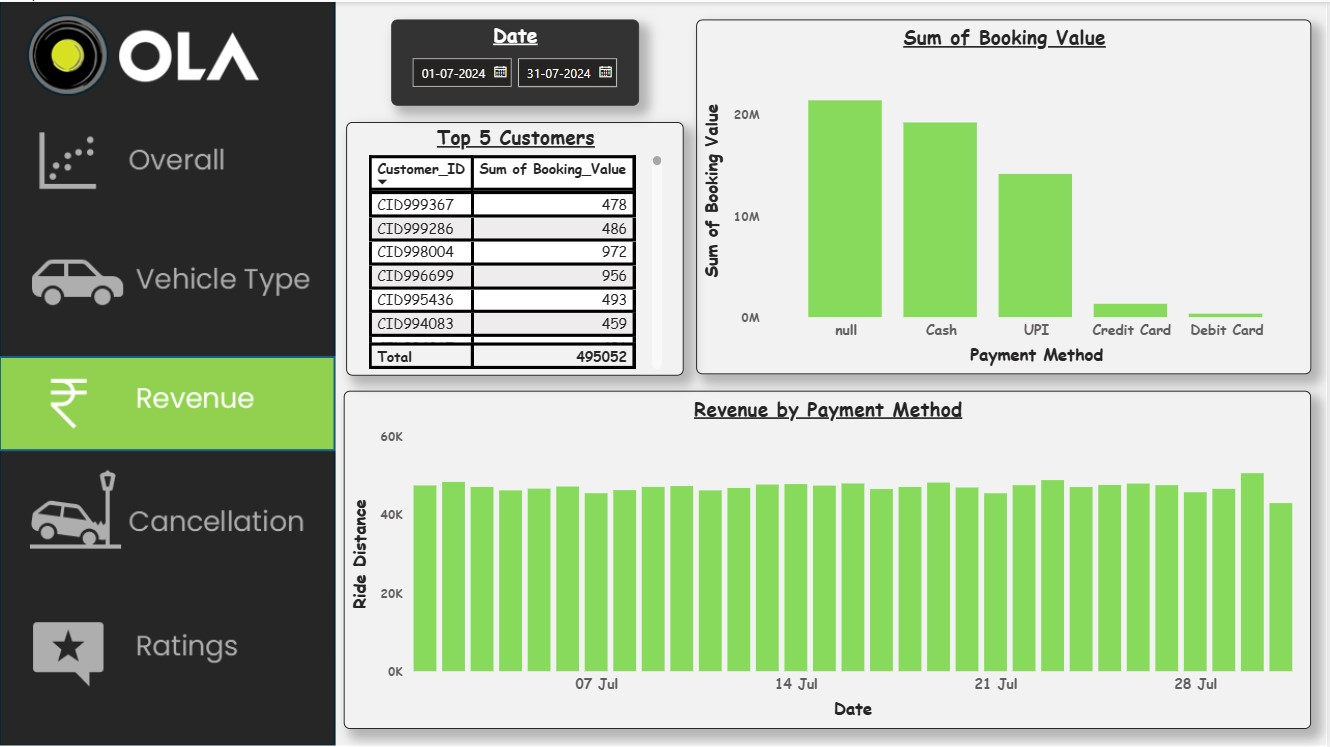

The page's visual inventory and layout, read from the dashboard file:
{"tool":"powerbi","page":{"name":"Revenue","canvas":[1280,720],"ordinal":2},"visuals":[{"type":"actionButton","box":[8.4,115.8,323.3,90.5],"z":0},{"type":"actionButton","box":[0,228,323.3,90.5],"z":1000},{"type":"actionButton","box":[0,115.8,323.3,90.5],"z":2000},{"type":"actionButton","box":[0,445.2,323.3,90.5],"z":3000},{"type":"actionButton","box":[0,228,323.3,90.5],"z":4000},{"type":"actionButton","box":[0,446.4,323.3,90.5],"z":5000},{"type":"actionButton","box":[0,583.9,323.3,90.5],"z":6000},{"type":"columnChart","title":"Revenue by Payment Method","fields":{"Y":["Sum(July.Ride_Distance)"],"Category":["July.Date"]},"box":[331.8,375.1,933.5,326.1],"z":7000},{"type":"columnChart","title":"Sum of Booking Value","fields":{"Y":["Sum(July.Booking_Value)"],"Category":["July.Payment_Method"]},"box":[672,16.9,593.6,342.6],"z":8000},{"type":"slicer","title":"Date","fields":{"Values":["July.Date"]},"box":[377.6,16.9,238.9,83.2],"z":9000},{"type":"tableEx","title":"Top 5 Customers","fields":{"Values":["July.Customer_ID","Sum(July.Booking_Value)"]},"box":[334.2,115.8,325.7,244.9],"z":10000}]}

Visuals, with their boxes in screenshot pixels (x1, y1, x2, y2), scaled from the page's 1280x720 canvas onto the 1330x747 screenshot:
actionButton: bbox=[9, 120, 345, 214]
actionButton: bbox=[0, 237, 336, 330]
actionButton: bbox=[0, 120, 336, 214]
actionButton: bbox=[0, 462, 336, 556]
actionButton: bbox=[0, 237, 336, 330]
actionButton: bbox=[0, 463, 336, 557]
actionButton: bbox=[0, 606, 336, 700]
"Revenue by Payment Method" columnChart: bbox=[345, 389, 1315, 727]
"Sum of Booking Value" columnChart: bbox=[698, 18, 1315, 373]
"Date" slicer: bbox=[392, 18, 641, 104]
"Top 5 Customers" tableEx: bbox=[347, 120, 686, 374]
